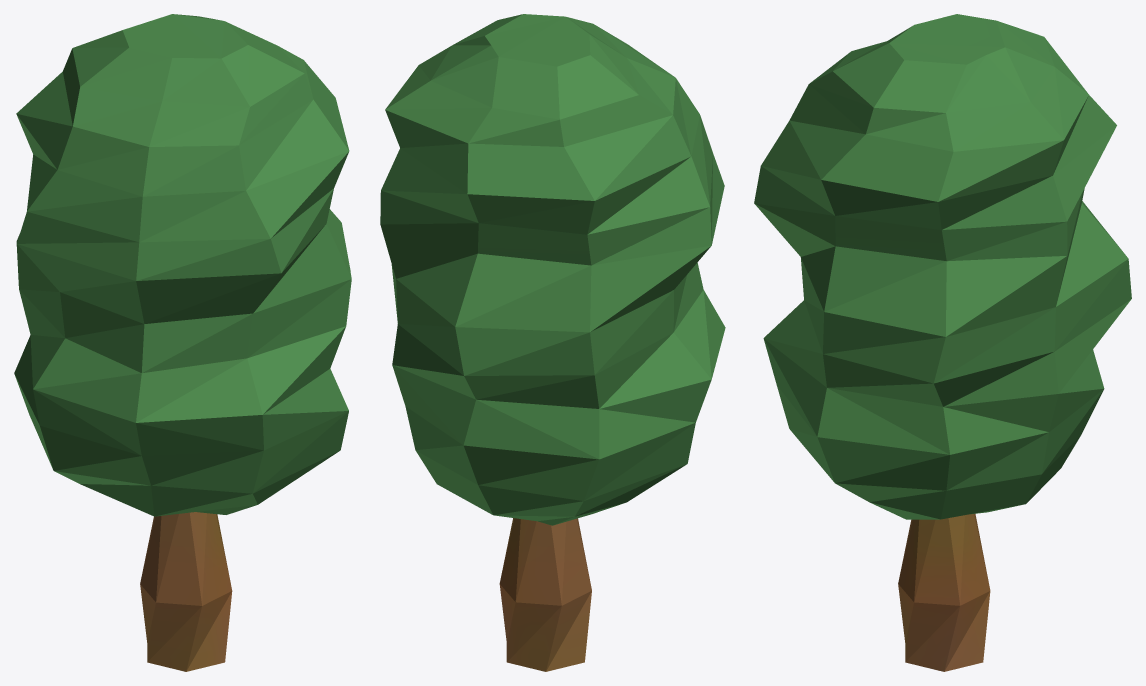
The model's file is tree_c.gltf.
3 renders of one model, left to right at view 1: azimuth 30°, elevation 25°; view 2: azimuth 150°, elevation 25°; view 3: azimuth 270°, elevation 25°, orthographic.
Visible parts, largest first — view 1: tree_c001; view 2: tree_c001; view 3: tree_c001.
Part boxes in pixels (x1,y1,x2,y2): tree_c001: [14, 14, 351, 671]; tree_c001: [380, 14, 725, 671]; tree_c001: [754, 14, 1131, 671].
Size of the model in its own units: 2.48 by 4.45 by 2.48.
Materials: 1 (1 with a texture image).
